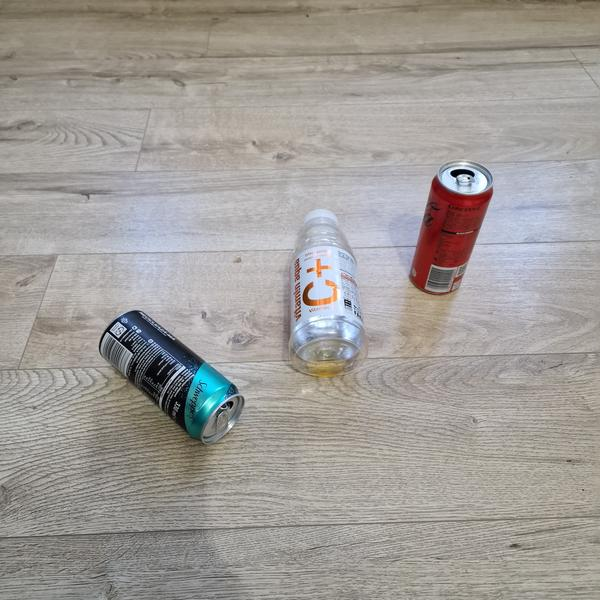can: (84, 299, 256, 456), (407, 155, 493, 300)
plastic_bottle: (287, 205, 367, 379)
